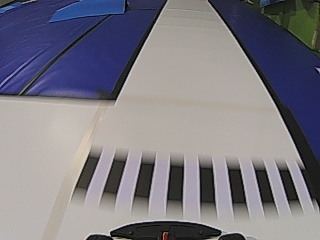CrossWalk: (76, 152, 288, 207)
